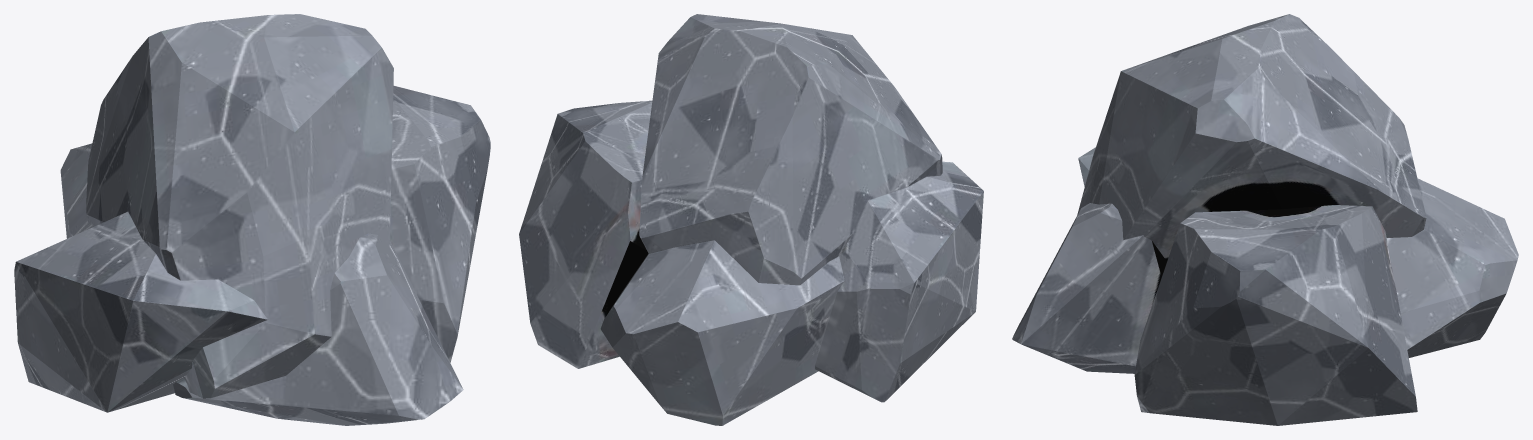
The model's file is res_iron_ore.glb.
3 renders of one model, left to right at view 1: azimuth 30°, elevation 25°; view 2: azimuth 150°, elevation 25°; view 3: azimuth 270°, elevation 25°, orthographic. The views are drawn at different scales.
Visible parts, largest first — view 1: res_iron_ore; view 2: res_iron_ore; view 3: res_iron_ore.
Part boxes in pixels (<box>): res_iron_ore: <box>14,14,490,425</box>; res_iron_ore: <box>519,14,983,425</box>; res_iron_ore: <box>1012,14,1518,425</box>.
Size of the model in its own units: 0.7749 by 0.5993 by 0.86.
1 material, 1 textured.
